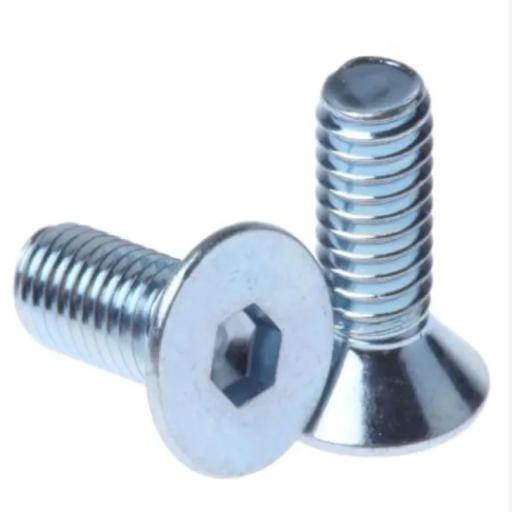Hex-Allen: (150, 220, 337, 480)
